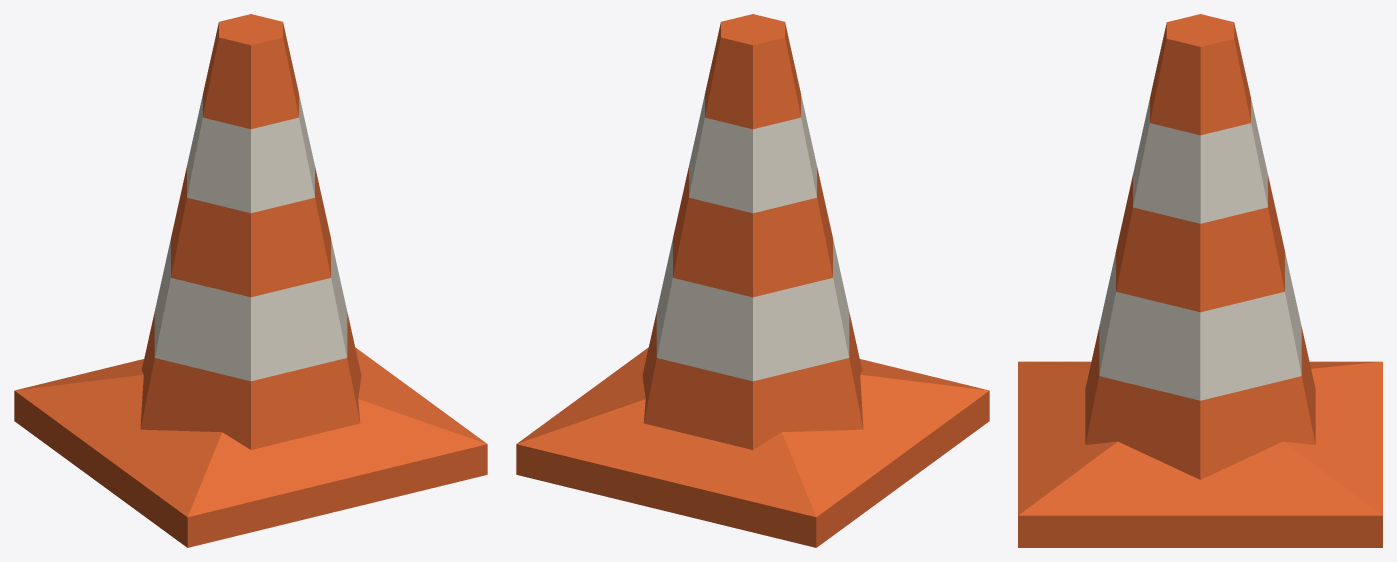
The picture shows the model from 3 angles, left to right: view 1: azimuth 30°, elevation 25°; view 2: azimuth 150°, elevation 25°; view 3: azimuth 270°, elevation 25°; orthographic projection. The views are drawn at different scales.
Parts seen in each view (by area): view 1: Cone; view 2: Cone; view 3: Cone.
Part boxes in pixels (box(x1,y1,x2,y2)): Cone: box(14, 14, 487, 547); Cone: box(516, 14, 989, 547); Cone: box(1018, 14, 1382, 547).
Size of the model in its own units: 0.5402 by 0.7196 by 0.5402.
Materials: 1 (1 with a texture image).
